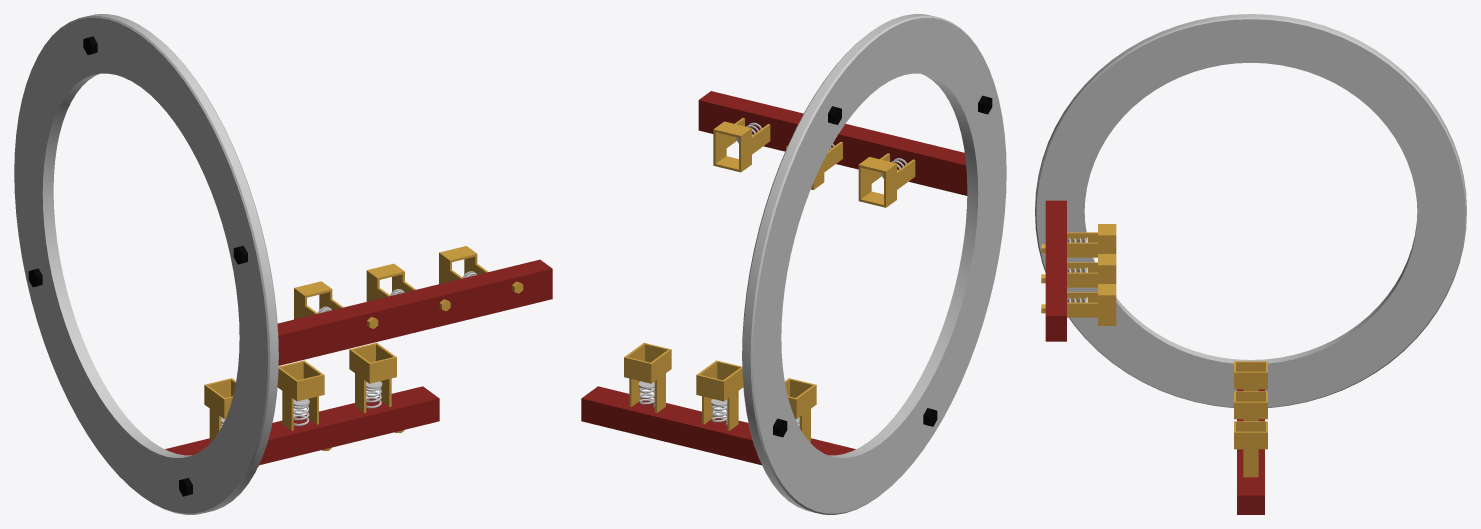
Rendered from carbon_brush_holder.obj.
The picture shows the model from 3 angles, left to right: view 1: azimuth 30°, elevation 25°; view 2: azimuth 150°, elevation 25°; view 3: azimuth 270°, elevation 25°; orthographic projection. The views are drawn at different scales.
Visible parts, largest first — view 1: carbon_brush_holder; view 2: carbon_brush_holder; view 3: carbon_brush_holder.
Part boxes in pixels (x1=…): carbon_brush_holder: x1=14, y1=14, x2=552, y2=514; carbon_brush_holder: x1=581, y1=14, x2=1006, y2=514; carbon_brush_holder: x1=1035, y1=14, x2=1466, y2=514.
Size of the model in its own units: 0.408 by 0.61 by 0.61.
